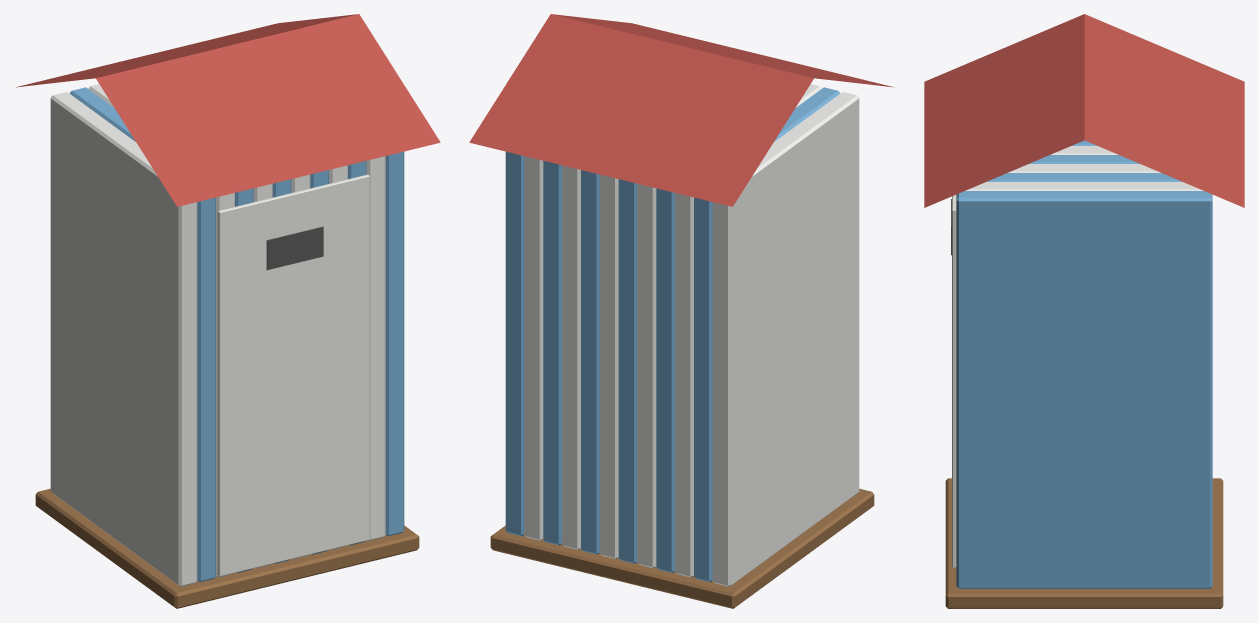
File: changing_cabin.glb
3 views of the same model, side by side, from view 1: azimuth 30°, elevation 25°; view 2: azimuth 150°, elevation 25°; view 3: azimuth 270°, elevation 25° (orthographic).
Visible parts, largest first — view 1: changing_cabin; view 2: changing_cabin; view 3: changing_cabin.
Boxes of the visible parts, <box> form: changing_cabin: <box>16,14,440,608</box>; changing_cabin: <box>469,14,893,608</box>; changing_cabin: <box>924,14,1244,608</box>.
Bounding box in the file's own units: 1.4 × 2.45 × 1.5.
